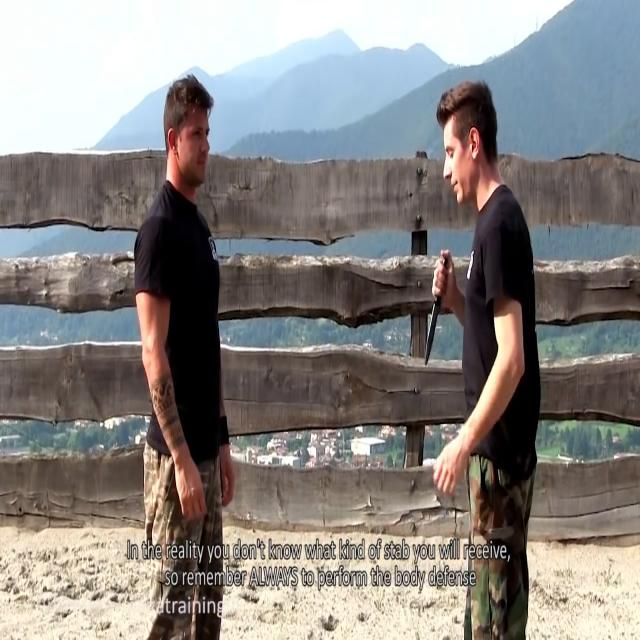knife: (424, 249, 451, 371)
